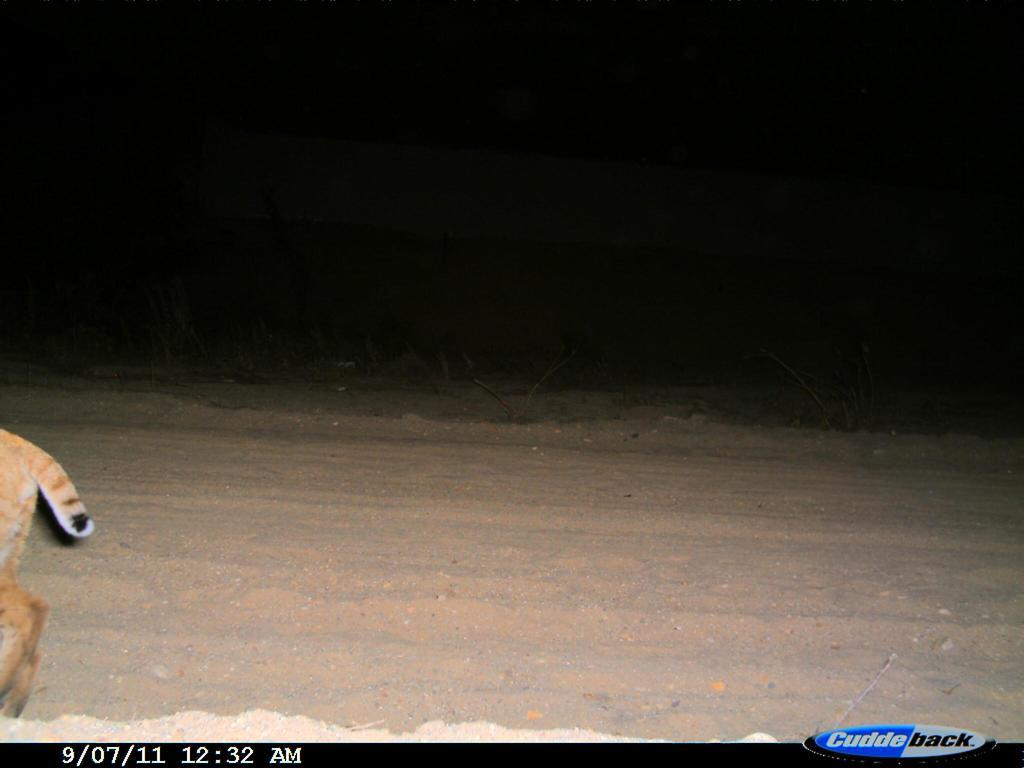bobcat: (3, 415, 99, 745)
